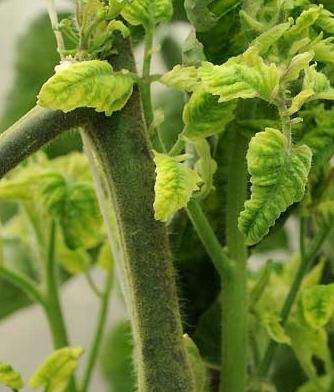Tomato leaf yellow virus: (223, 113, 312, 250), (141, 128, 205, 251), (35, 49, 134, 114), (165, 59, 272, 117)
